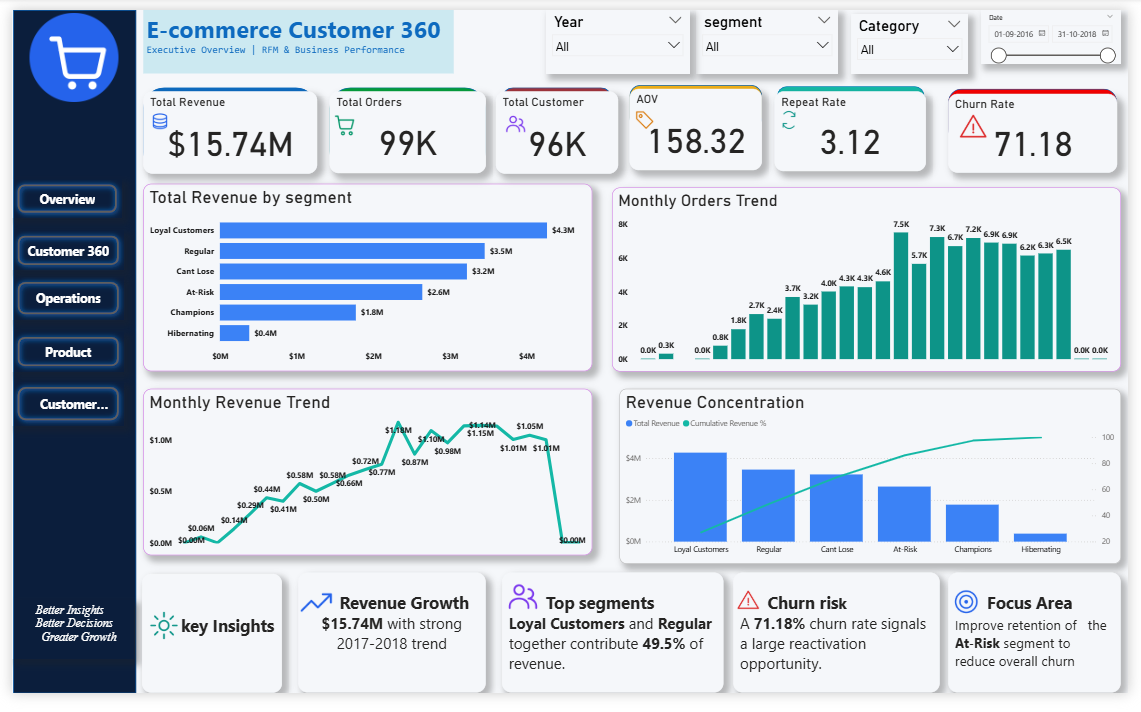

The page's visual inventory and layout, read from the dashboard file:
{"tool":"powerbi","page":{"name":"Executive Overview","canvas":[1786,1093],"ordinal":0},"visuals":[{"type":"lineChart","title":"Monthly Revenue Trend","fields":{"Category":["Date_Table.Year-Month"],"Y":["transactions_cleaned.Total Revenue"]},"box":[210,606,718,266],"z":0},{"type":"clusteredColumnChart","title":"Monthly Orders Trend","fields":{"Y":["transactions_cleaned.Total Orders"],"Category":["Date_Table.Year-Month"]},"box":[960,284,814,294],"z":1000},{"type":"barChart","fields":{"Category":["customer_360_master.segment"],"Y":["transactions_cleaned.Total Revenue"]},"box":[210,278,718,300],"z":2000},{"type":"slicer","fields":{"Values":["Date_Table.Year"]},"box":[854,0,230,102],"z":3000},{"type":"slicer","fields":{"Values":["customer_360_master.segment"]},"box":[1094,0,228,102],"z":4000},{"type":"lineClusteredColumnComboChart","title":"Revenue Concentration","fields":{"Category":["customer_360_master.segment"],"Y2":["customer_360_master.Cumulative Revenue %"],"Y":["transactions_cleaned.Total Revenue"]},"box":[972,606,802,280],"z":5000},{"type":"shape","box":[1.7,0,196.7,1093.3],"z":6000},{"type":"textbox","box":[0,944,196,94],"z":7000},{"type":"textbox","box":[210,0,496.7,101.7],"z":8000},{"type":"slicer","title":"Category","fields":{"Values":["transactions_cleaned.Product_category_name_english"]},"box":[1342,6,188,96],"z":9000},{"type":"image","box":[0,0,198,152],"z":10000},{"type":"slicer","fields":{"Values":["Date_Table.Date"]},"box":[1550,0,224,86],"z":11000},{"type":"shape","box":[210,124,278,136],"z":12000},{"type":"card","title":"Total Revenue","fields":{"Values":["transactions_cleaned.Total Revenue"]},"box":[210,130,278,132],"z":13000},{"type":"shape","box":[508.6,124.3,250,135.7],"z":14000},{"type":"image","box":[210,156,54,44],"z":15000},{"type":"card","title":"Total Orders","fields":{"Values":["transactions_cleaned.Total Orders"]},"box":[508.6,130,250,131.4],"z":16000},{"type":"image","box":[508,154,52,60],"z":17000},{"type":"shape","box":[784.3,124.3,175.7,70],"z":18000},{"type":"card","title":"Total Customer","fields":{"Values":["transactions_cleaned.Total Customers"]},"box":[774,130,196,132],"z":19000},{"type":"image","box":[774,158,66,50],"z":20000},{"type":"shape","box":[988,120,212,70],"z":21000},{"type":"card","title":"AOV","fields":{"Values":["transactions_cleaned.AOV"]},"box":[988,126,212,130],"z":22000},{"type":"image","box":[988,152,48,44],"z":23000},{"type":"shape","box":[1224,122,236,64],"z":24000},{"type":"card","title":"Repeat Rate","fields":{"Values":["transactions_cleaned.Repeat Rate"]},"box":[1220,130,242,128],"z":25000},{"type":"image","box":[1220,156,46,40],"z":26000},{"type":"shape","box":[1498,126,270,86],"z":27000},{"type":"image","box":[1546,156,64,46],"z":28000},{"type":"card","title":"Churn Rate","fields":{"Values":["transactions_cleaned.Churn Rate"]},"box":[1498,134,270,126],"z":29000},{"type":"actionButton","box":[0,270,176.7,63.3],"z":30000},{"type":"actionButton","box":[0,351.7,180,65],"z":31000},{"type":"actionButton","box":[0,425,180,70],"z":32000},{"type":"actionButton","box":[0,513.3,180,65],"z":33000},{"type":"actionButton","box":[0,593.3,180,71.7],"z":34000},{"type":"textbox","box":[458,900,300,192],"z":35000},{"type":"textbox","box":[784,900,354,192],"z":36000},{"type":"textbox","box":[1154,900,330,192],"z":37000},{"type":"textbox","box":[1498,900,276,192],"z":38000},{"type":"textbox","box":[208,902,224,190],"z":39000},{"type":"image","box":[784,902,70,74],"z":40000},{"type":"image","box":[1498,918,58,58],"z":41000},{"type":"image","box":[1154,906,48,76],"z":42000},{"type":"image","box":[202,954,82,62],"z":43000},{"type":"image","box":[446,912,82,72],"z":44000},{"type":"image","box":[1498,158,80,58],"z":45000}]}

Visuals, with their boxes in screenshot pixels (x1, y1, x2, y2), scaled from the page's 1786x1093 canvas onto the 1141x712 screenshot:
"Monthly Revenue Trend" lineChart: {"left": 134, "top": 395, "right": 593, "bottom": 568}
"Monthly Orders Trend" clusteredColumnChart: {"left": 613, "top": 185, "right": 1133, "bottom": 377}
barChart - customer_360_master.segment x transactions_cleaned.Total Revenue: {"left": 134, "top": 181, "right": 593, "bottom": 377}
slicer - Date_Table.Year: {"left": 546, "top": 0, "right": 693, "bottom": 66}
slicer - customer_360_master.segment: {"left": 699, "top": 0, "right": 845, "bottom": 66}
"Revenue Concentration" lineClusteredColumnComboChart: {"left": 621, "top": 395, "right": 1133, "bottom": 577}
shape: {"left": 1, "top": 0, "right": 127, "bottom": 711}
textbox: {"left": 0, "top": 615, "right": 125, "bottom": 676}
textbox: {"left": 134, "top": 0, "right": 451, "bottom": 66}
"Category" slicer: {"left": 857, "top": 4, "right": 977, "bottom": 66}
image: {"left": 0, "top": 0, "right": 126, "bottom": 99}
slicer - Date_Table.Date: {"left": 990, "top": 0, "right": 1133, "bottom": 56}
shape: {"left": 134, "top": 81, "right": 312, "bottom": 169}
"Total Revenue" card: {"left": 134, "top": 85, "right": 312, "bottom": 171}
shape: {"left": 325, "top": 81, "right": 485, "bottom": 169}
image: {"left": 134, "top": 102, "right": 169, "bottom": 130}
"Total Orders" card: {"left": 325, "top": 85, "right": 485, "bottom": 170}
image: {"left": 325, "top": 100, "right": 358, "bottom": 139}
shape: {"left": 501, "top": 81, "right": 613, "bottom": 127}
"Total Customer" card: {"left": 494, "top": 85, "right": 620, "bottom": 171}
image: {"left": 494, "top": 103, "right": 537, "bottom": 135}
shape: {"left": 631, "top": 78, "right": 767, "bottom": 124}
"AOV" card: {"left": 631, "top": 82, "right": 767, "bottom": 167}
image: {"left": 631, "top": 99, "right": 662, "bottom": 128}
shape: {"left": 782, "top": 79, "right": 933, "bottom": 121}
"Repeat Rate" card: {"left": 779, "top": 85, "right": 934, "bottom": 168}
image: {"left": 779, "top": 102, "right": 809, "bottom": 128}
shape: {"left": 957, "top": 82, "right": 1130, "bottom": 138}
image: {"left": 988, "top": 102, "right": 1029, "bottom": 132}
"Churn Rate" card: {"left": 957, "top": 87, "right": 1130, "bottom": 169}
actionButton: {"left": 0, "top": 176, "right": 113, "bottom": 217}
actionButton: {"left": 0, "top": 229, "right": 115, "bottom": 271}
actionButton: {"left": 0, "top": 277, "right": 115, "bottom": 322}
actionButton: {"left": 0, "top": 334, "right": 115, "bottom": 377}
actionButton: {"left": 0, "top": 386, "right": 115, "bottom": 433}
textbox: {"left": 293, "top": 586, "right": 484, "bottom": 711}
textbox: {"left": 501, "top": 586, "right": 727, "bottom": 711}
textbox: {"left": 737, "top": 586, "right": 948, "bottom": 711}
textbox: {"left": 957, "top": 586, "right": 1133, "bottom": 711}
textbox: {"left": 133, "top": 588, "right": 276, "bottom": 711}
image: {"left": 501, "top": 588, "right": 546, "bottom": 636}
image: {"left": 957, "top": 598, "right": 994, "bottom": 636}
image: {"left": 737, "top": 590, "right": 768, "bottom": 640}
image: {"left": 129, "top": 621, "right": 181, "bottom": 662}
image: {"left": 285, "top": 594, "right": 337, "bottom": 641}
image: {"left": 957, "top": 103, "right": 1008, "bottom": 141}
